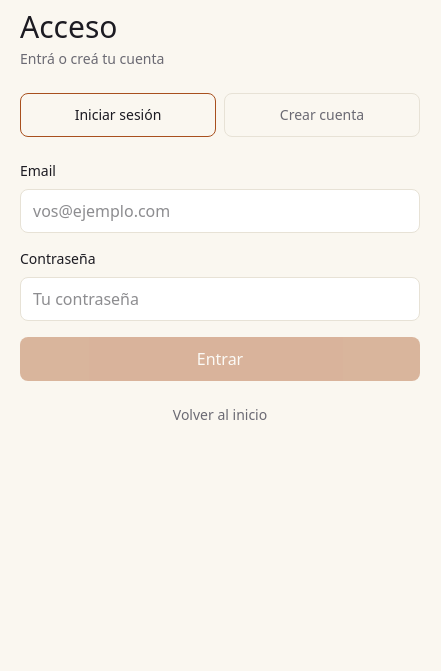
it: AccessFlow — form account-first (S9, S5c) › signup fallido → aviso calmo que sugiere iniciar sesión (no navega)
Click the button "Crear cuenta" at (322, 115), box [224,93,420,137]
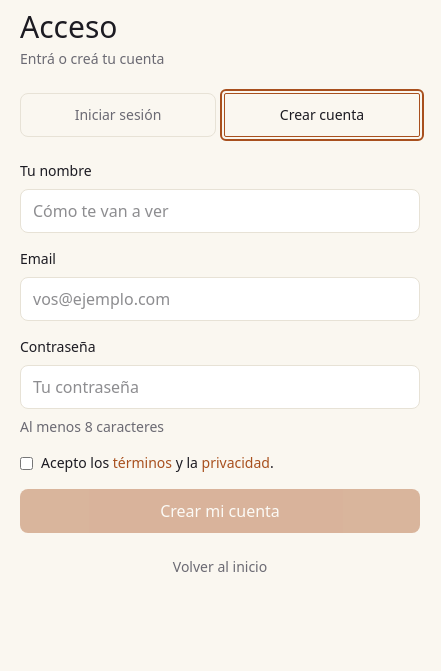
Type "Ana" into the field labelled "Tu nombre" at (220, 211), box [20,189,420,233]
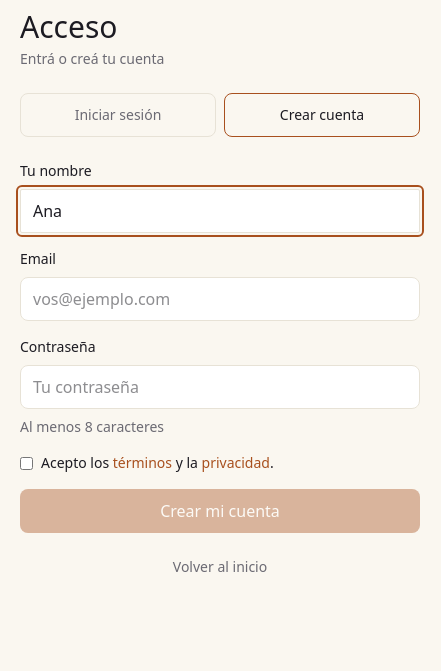
Type "ana@ejemplo.com" into the field labelled "Email" at (220, 299), box [20,277,420,321]
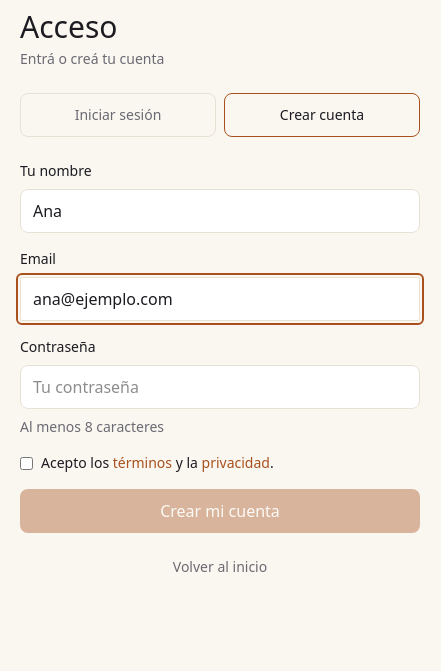
Type "supersegura" into the password field labelled "Contraseña" at (220, 387), box [20,365,420,409]
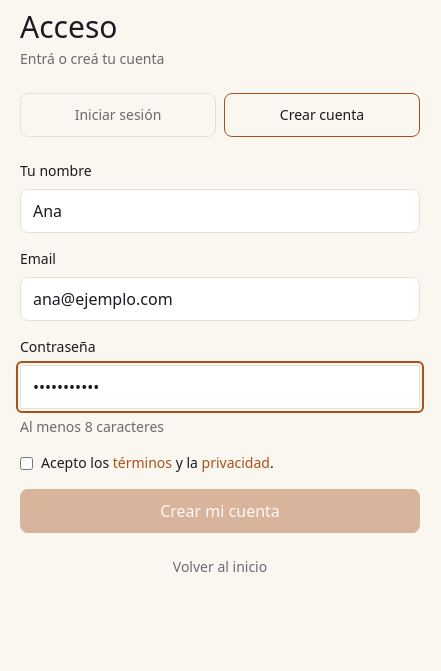
Click the checkbox labelled "Acepto los términos y la privacidad ." at (26, 464), box [20,457,33,470]
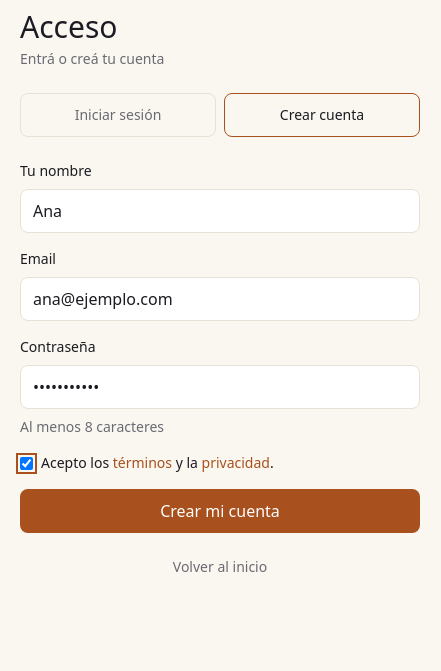
Click the button "Crear mi cuenta" at (220, 511), box [20,489,420,533]
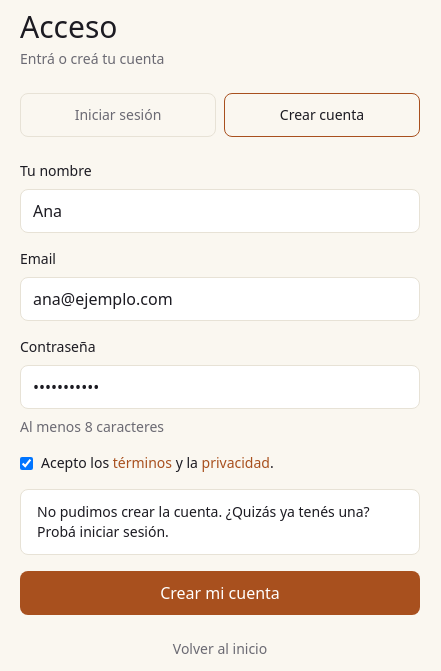
Check: the text "No pudimos crear la cuenta. ¿Quizás ya tenés una? Probá iniciar sesión." is shown, box [20,489,420,555]
